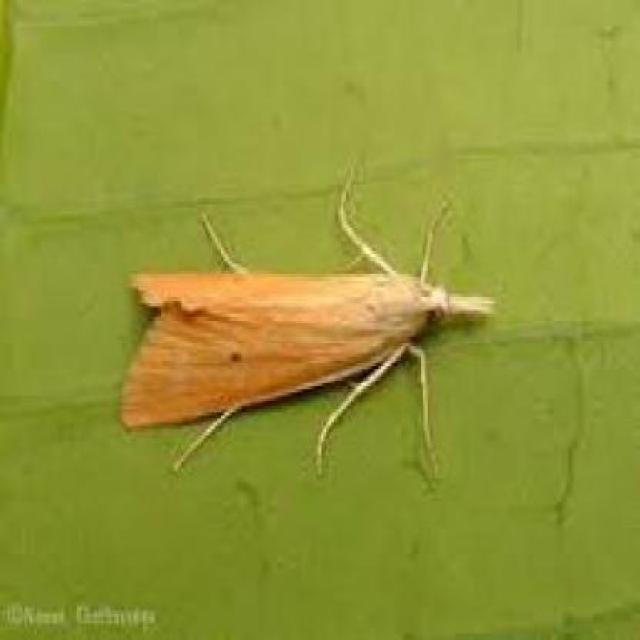stem-borer: (118, 169, 499, 483)
